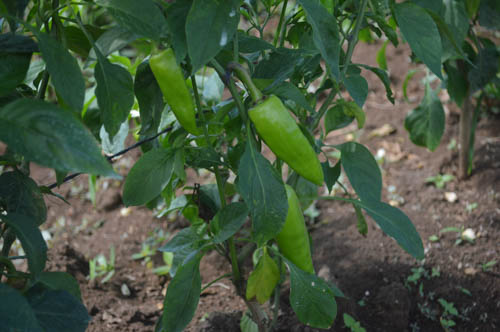ChiliPepper: (246, 95, 324, 184), (153, 50, 200, 130), (273, 189, 318, 272)
